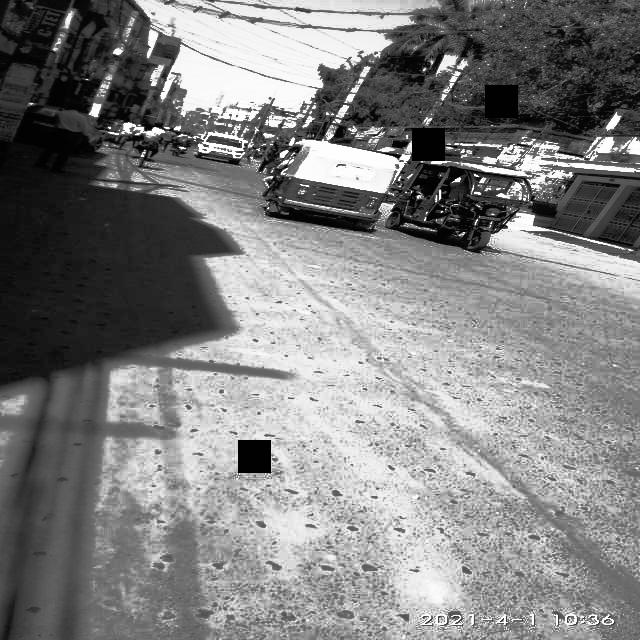Auto-Rickshaw: (270, 129, 390, 236)
Toto: (387, 151, 533, 256)
